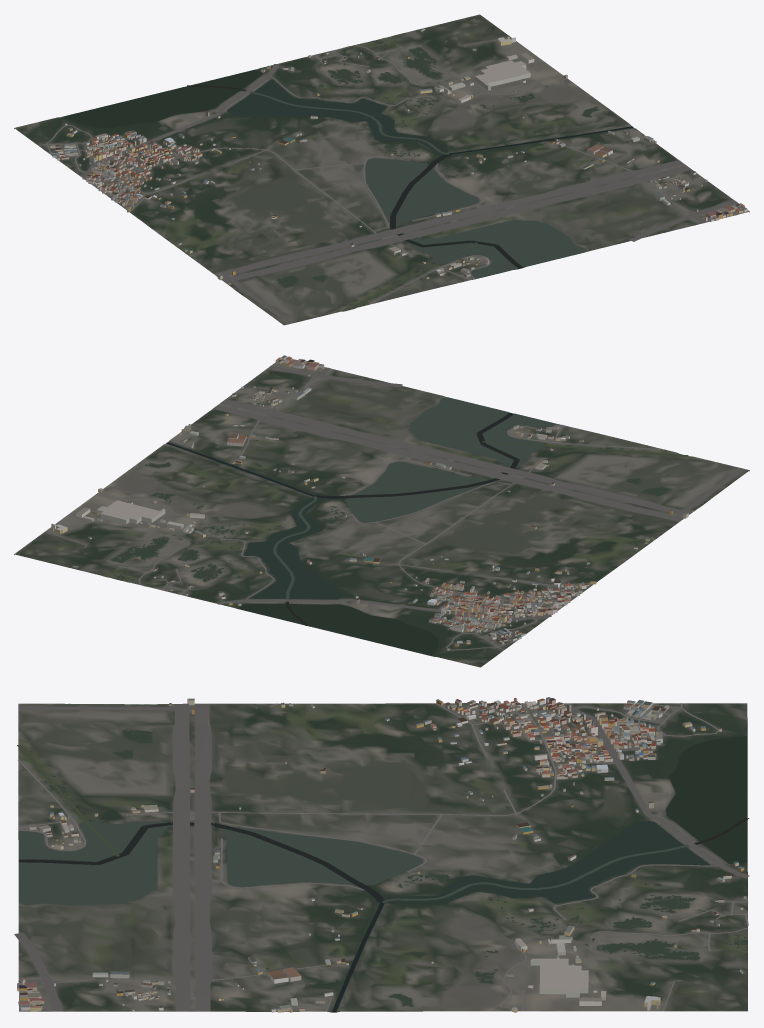
The picture shows the model from 3 angles, top to bottom: view 1: azimuth 30°, elevation 25°; view 2: azimuth 150°, elevation 25°; view 3: azimuth 270°, elevation 25°; orthographic projection. The views are drawn at different scales.
Parts seen in each view (by area): view 1: ground, water, roads, buildings; view 2: ground, water, roads, buildings; view 3: ground, water, roads, buildings.
Boxes of the visible parts, left/top/right/bottom form: ground: left=14, top=14, right=749, bottom=325; water: left=63, top=37, right=633, bottom=310; roads: left=38, top=37, right=749, bottom=323; buildings: left=50, top=28, right=747, bottom=284; ground: left=14, top=359, right=749, bottom=667; water: left=106, top=397, right=707, bottom=655; roads: left=45, top=359, right=744, bottom=650; buildings: left=51, top=355, right=693, bottom=650; ground: left=18, top=703, right=747, bottom=1012; water: left=17, top=704, right=749, bottom=1012; roads: left=14, top=702, right=749, bottom=1011; buildings: left=17, top=697, right=746, bottom=1012.
Bounding box in the file's own units: 1409 × 24.36 × 1415.
